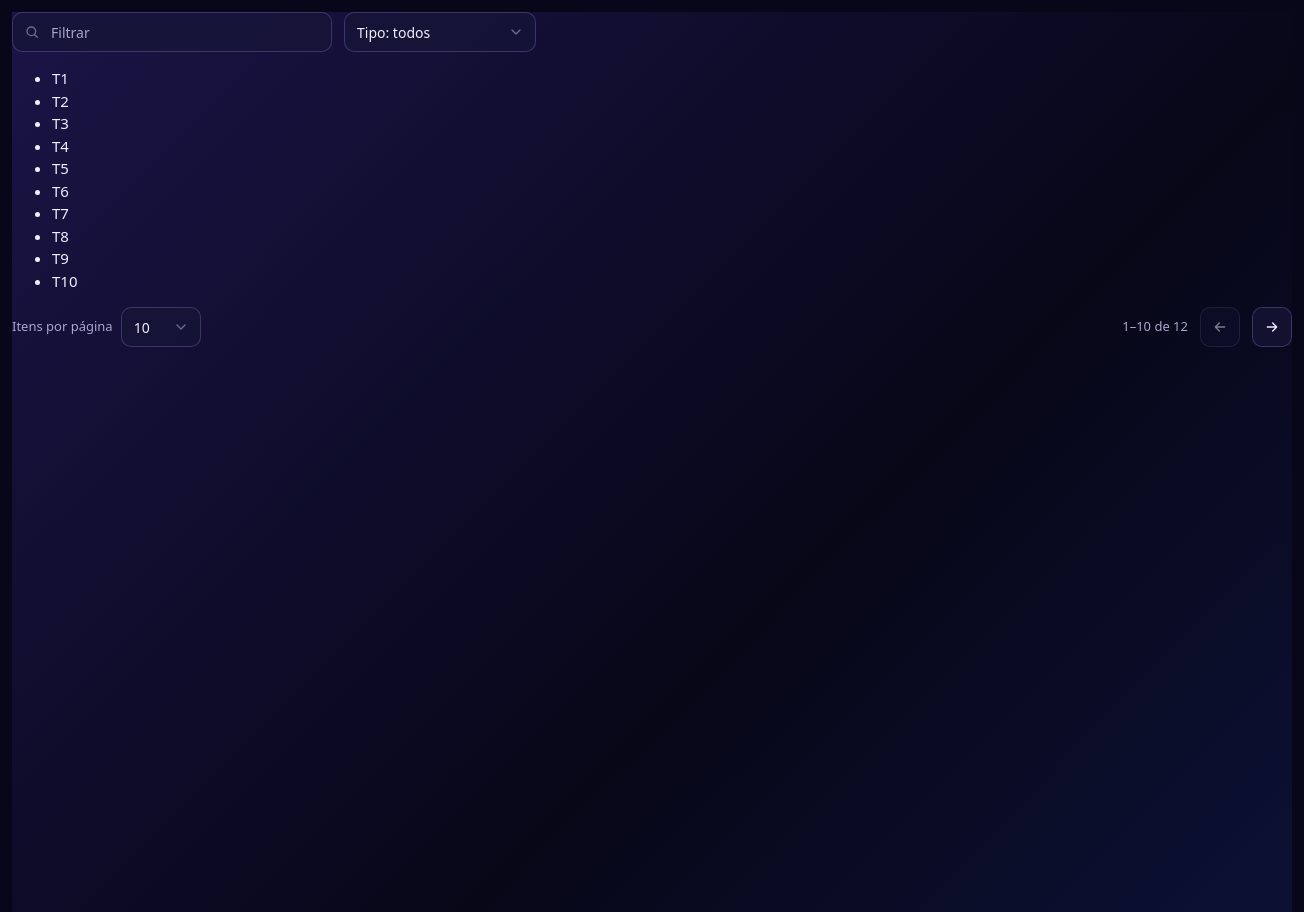
Test: table paging › hides the pager when the rows fit the smallest page size
Type "T1" into the search field named "Filtrar linhas" at (172, 32), box [12,12,332,52]
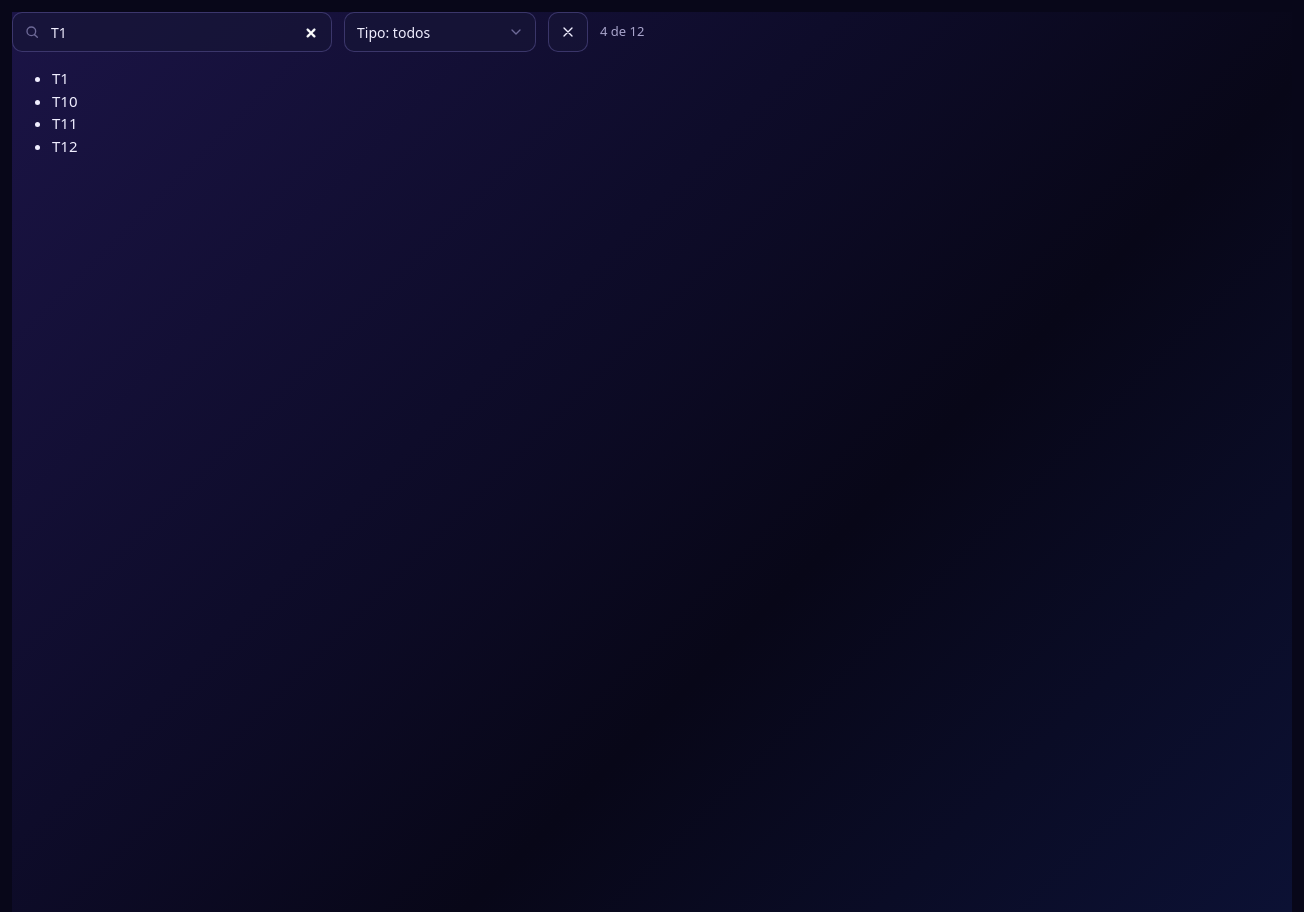
Expected: the text labelled "Itens por página" is gone
